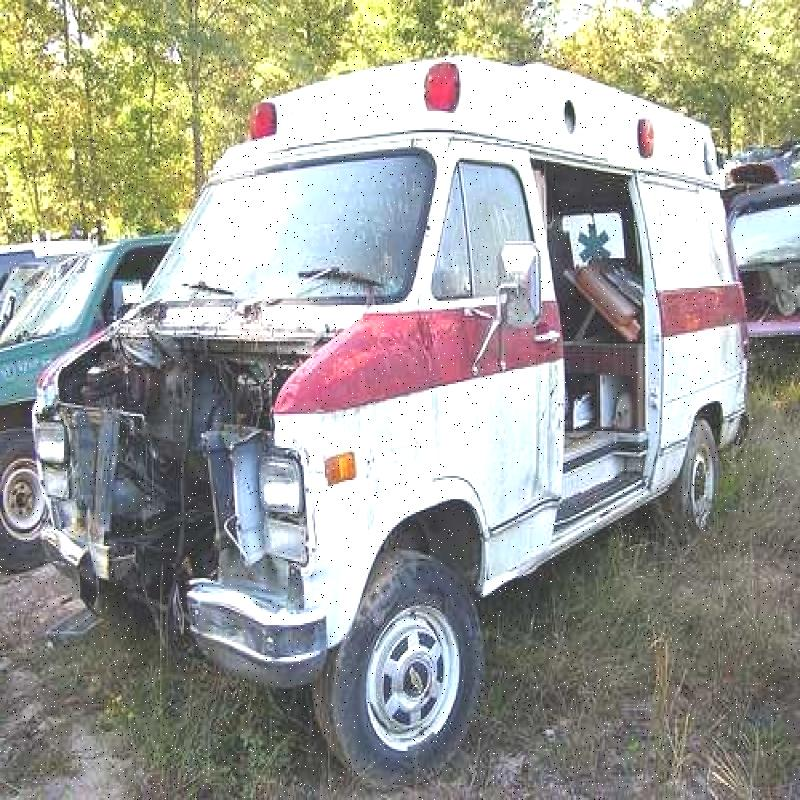AmbulanceSiren: (236, 82, 285, 150), (420, 64, 456, 124)
